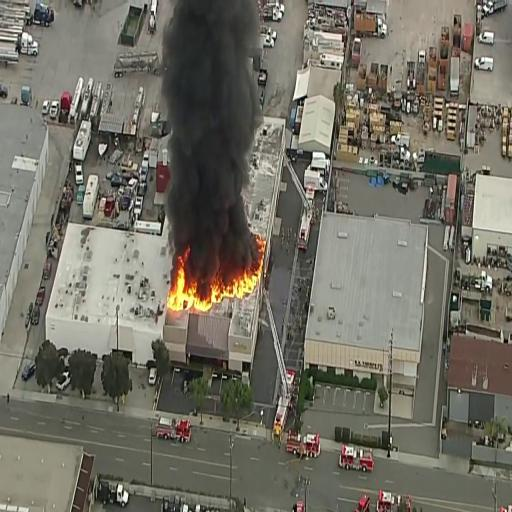fire: (194, 267, 261, 304), (167, 250, 191, 313)
smoke: (178, 0, 240, 246)
